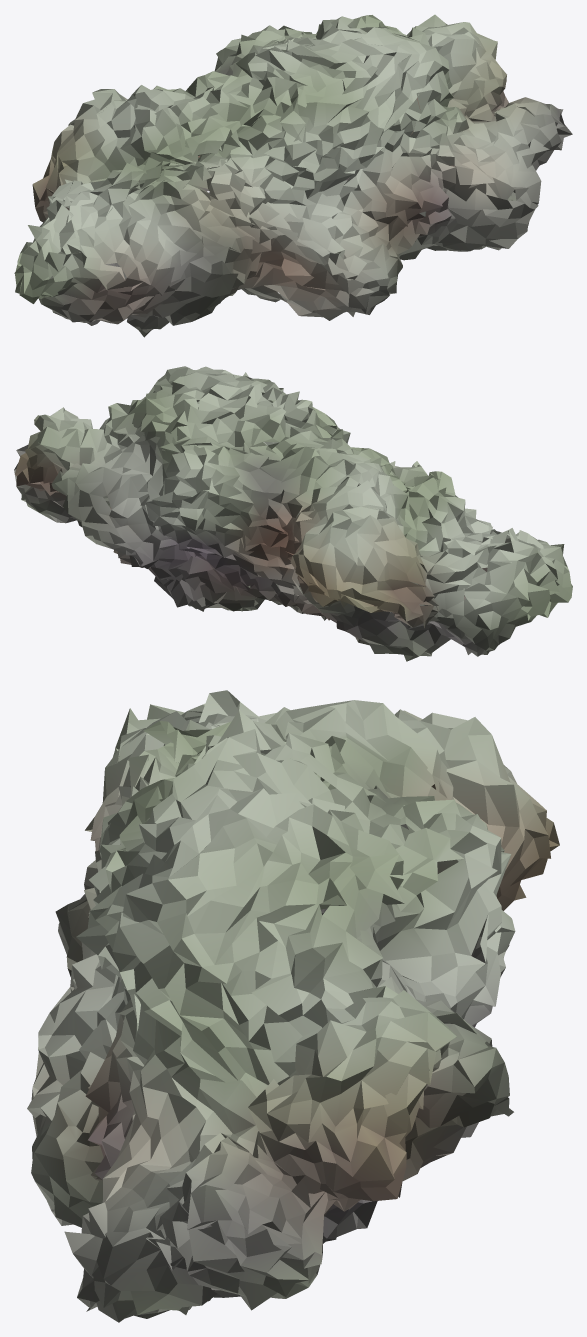
Rendered from PC_Cloud_02.FBX.
The picture shows the model from 3 angles, top to bottom: view 1: azimuth 30°, elevation 25°; view 2: azimuth 150°, elevation 25°; view 3: azimuth 270°, elevation 25°; orthographic projection. The views are drawn at different scales.
Parts seen in each view (by area): view 1: cloud_large_01; view 2: cloud_large_01; view 3: cloud_large_01.
Part boxes in pixels (x1,y1,x2,y2): cloud_large_01: (14,14,572,337); cloud_large_01: (14,366,572,661); cloud_large_01: (27,690,559,1322).
Size of the model in its own units: 22.22 by 9.66 by 9.58.
